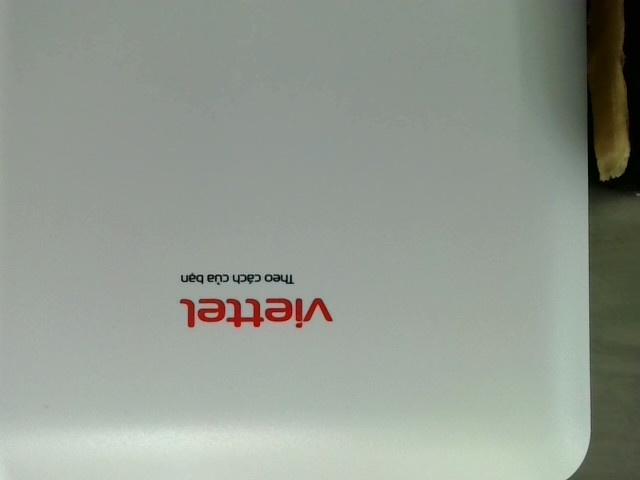AY_Viettel: (173, 265, 338, 335)
